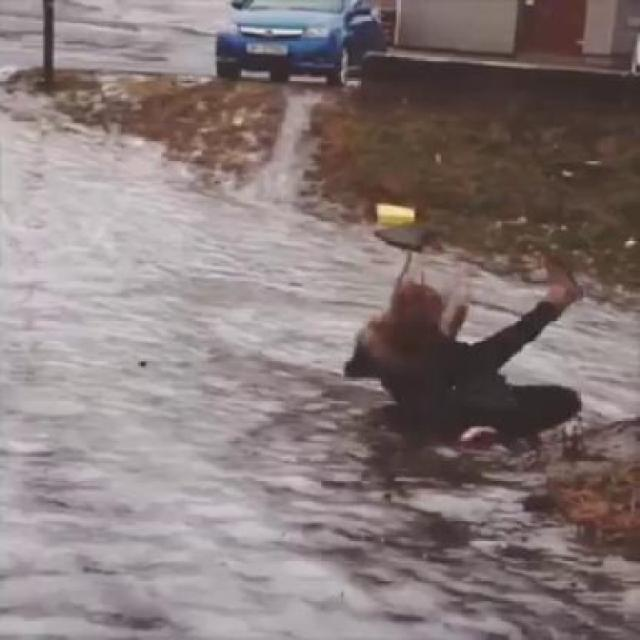fall: (343, 248, 579, 444)
